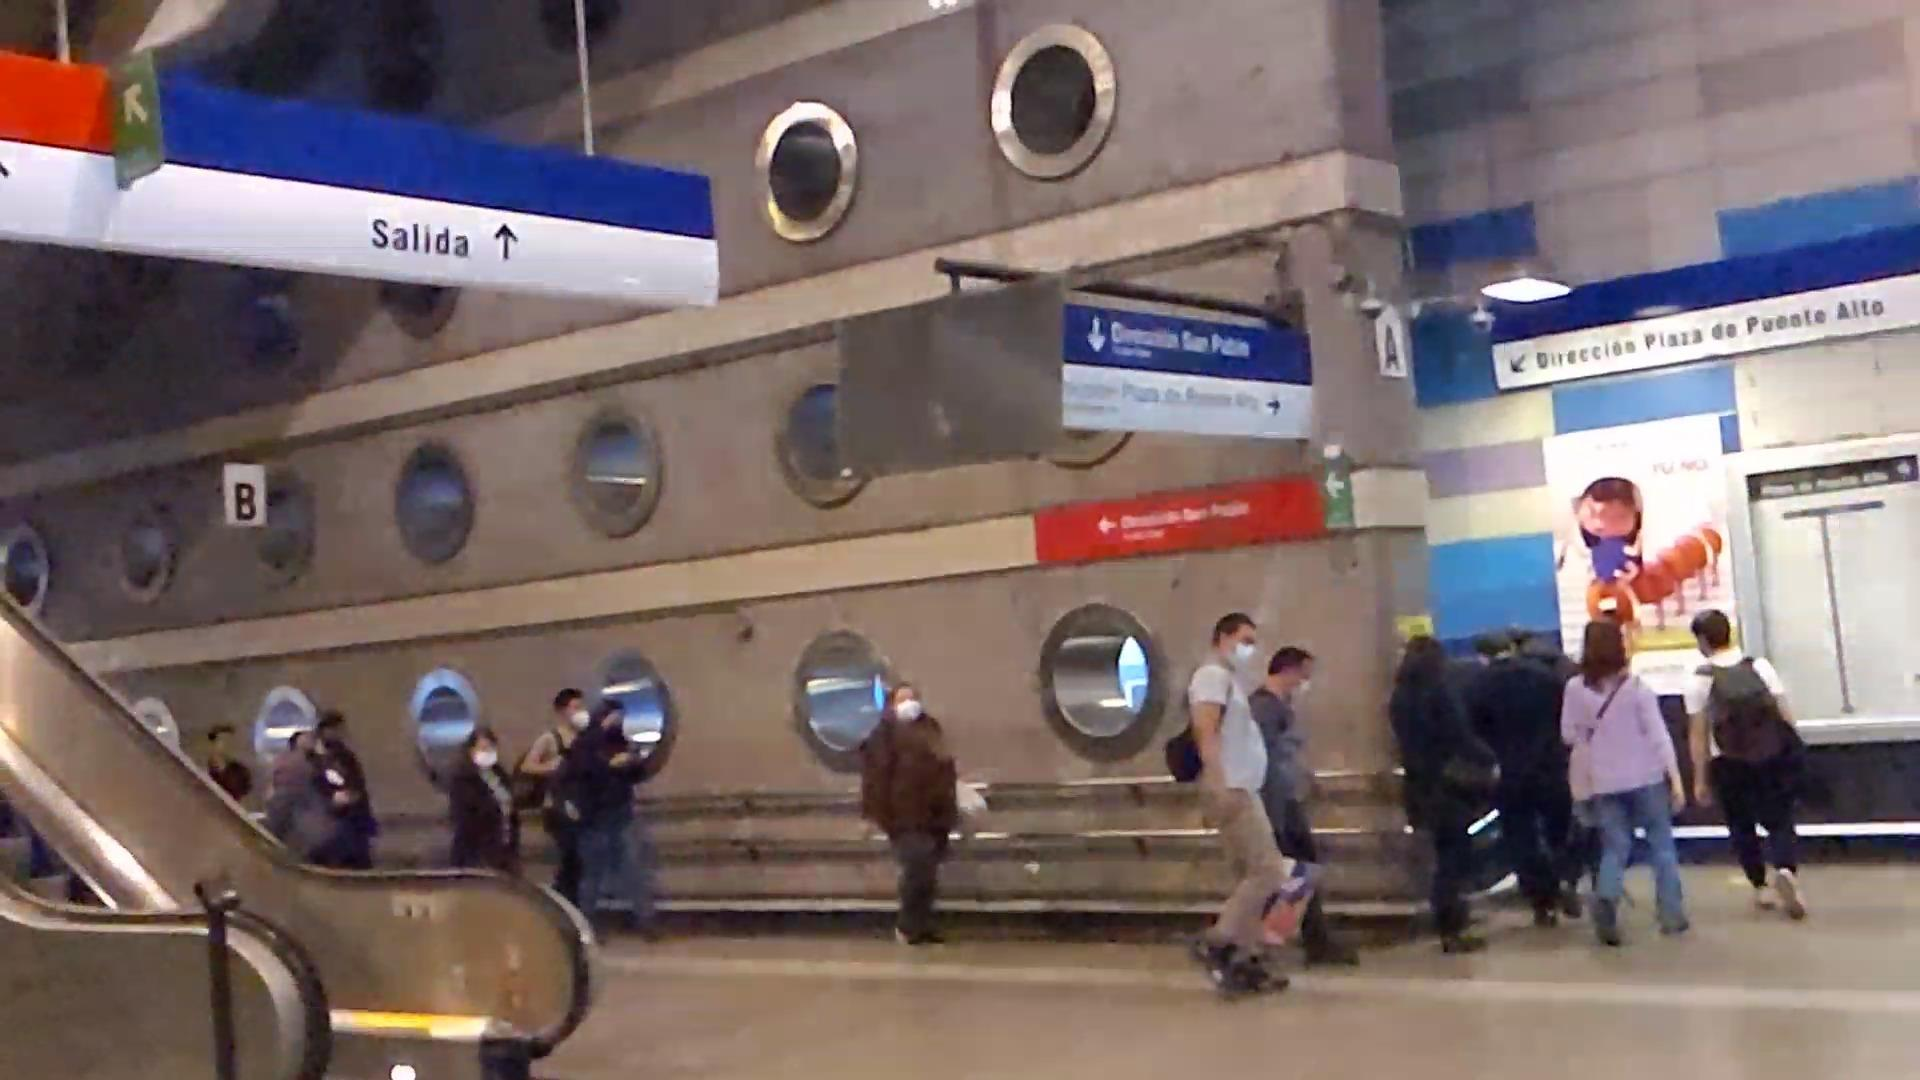down arrow: (1084, 315, 1109, 355)
emergency left arrow: (1323, 465, 1349, 504)
left arrow: (1095, 514, 1118, 537)
up arrow: (489, 219, 521, 264)
